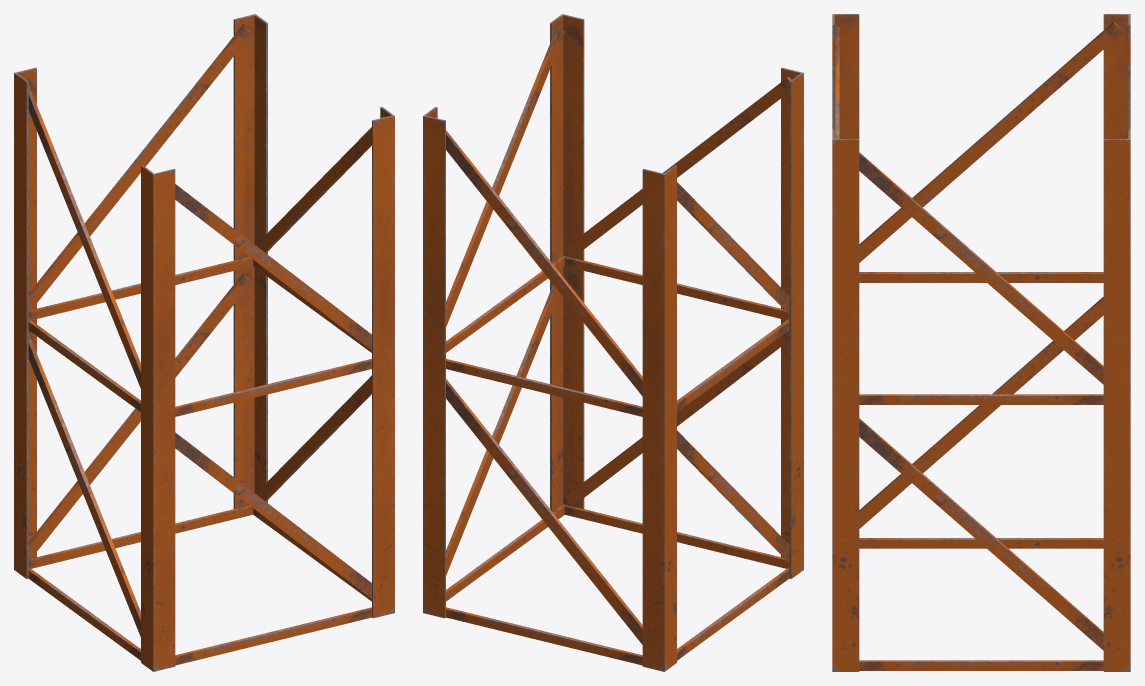
The model's file is CraneLegSection.fbx.
3 renders of one model, left to right at view 1: azimuth 30°, elevation 25°; view 2: azimuth 150°, elevation 25°; view 3: azimuth 270°, elevation 25°, orthographic. The views are drawn at different scales.
Visible parts, largest first — view 1: Crane_Leg_Section_LOD0; view 2: Crane_Leg_Section_LOD0; view 3: Crane_Leg_Section_LOD0.
Part boxes in pixels (x1,y1,x2,y2): Crane_Leg_Section_LOD0: [14, 14, 394, 671]; Crane_Leg_Section_LOD0: [423, 14, 803, 671]; Crane_Leg_Section_LOD0: [832, 14, 1130, 671].
Size of what is drawn, in the model's own units: 3.05 by 6 by 3.05.
